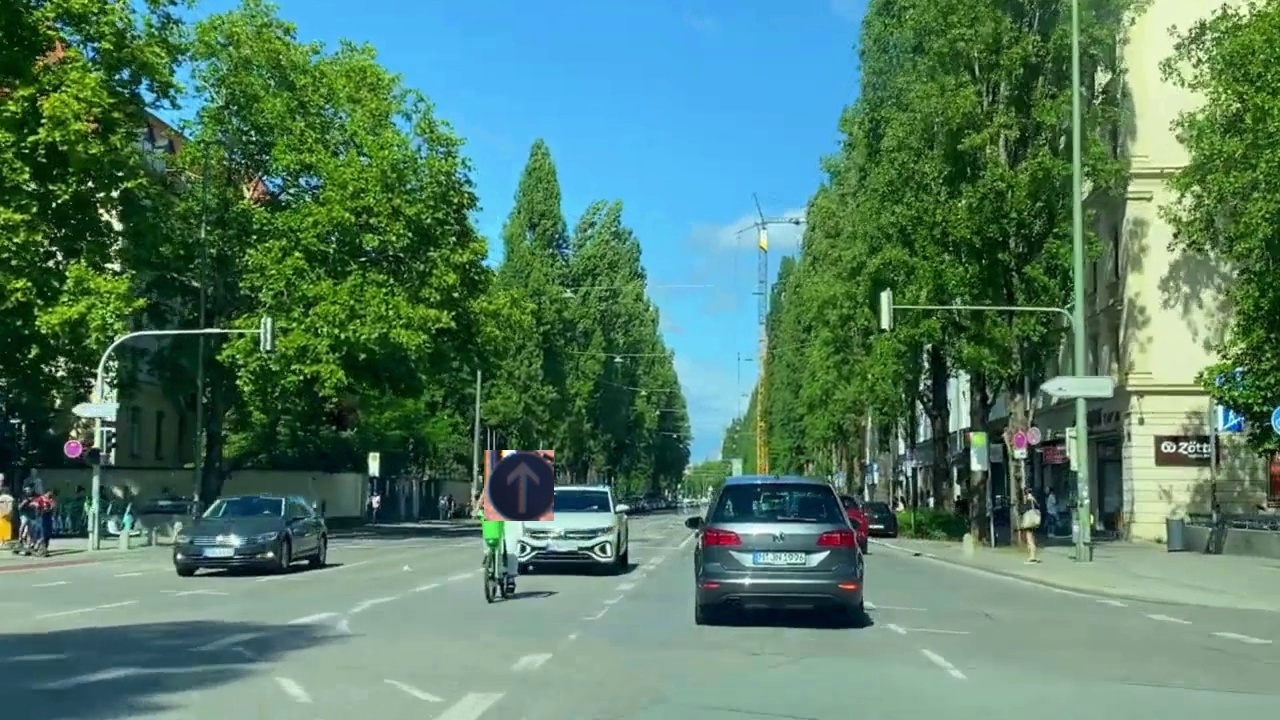Ahead only: (484, 450, 554, 521)
